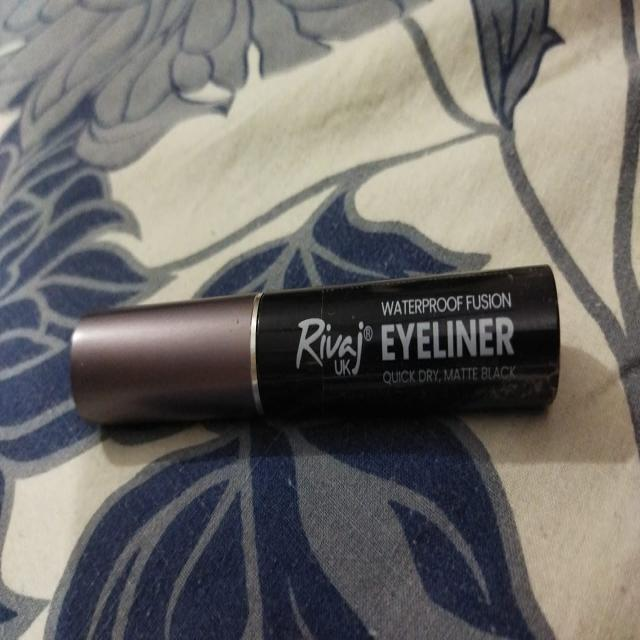mascara: (58, 254, 576, 441)
